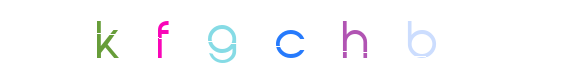B: (292, 0, 372, 80)
C: (246, 0, 326, 80)
F: (121, 0, 201, 80)
G: (185, 0, 265, 80)
H: (248, 0, 328, 80)
K: (64, 0, 144, 80)
